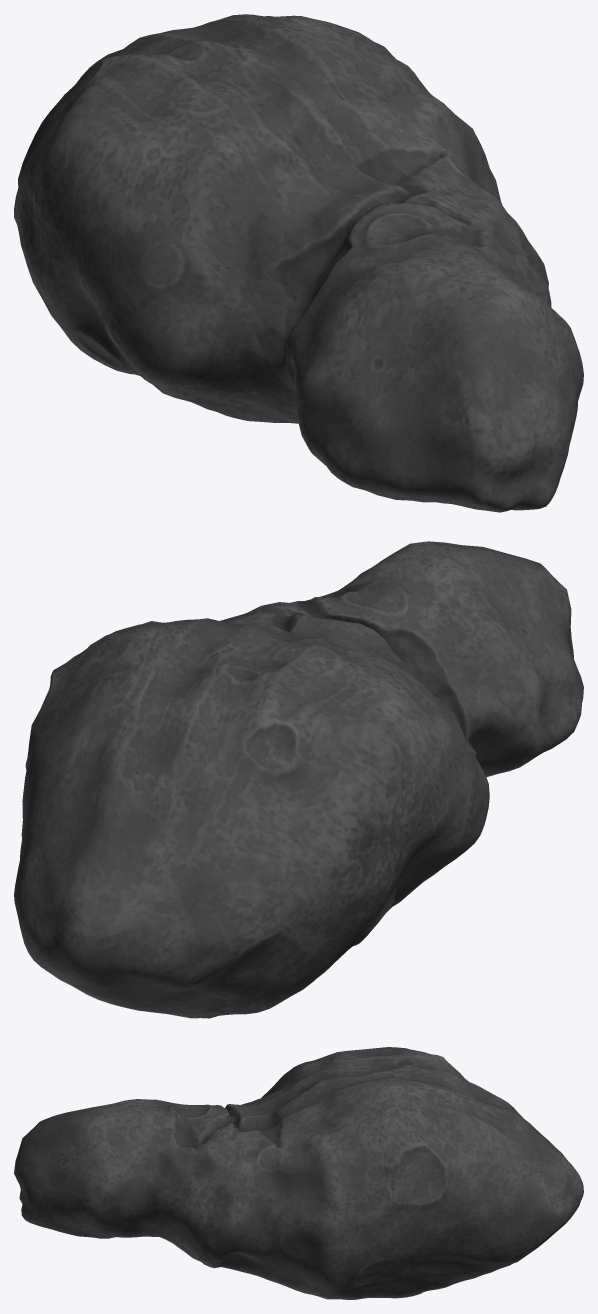
File: toutatis-transformed.glb
3 views of the same model, one above another, from view 1: azimuth 30°, elevation 25°; view 2: azimuth 150°, elevation 25°; view 3: azimuth 270°, elevation 25° (orthographic). The views are drawn at different scales.
Parts seen in each view (by area): view 1: Toutatis_LP; view 2: Toutatis_LP; view 3: Toutatis_LP.
Boxes of the visible parts, box(x1,y1,x2,y2) form: Toutatis_LP: box(14, 14, 583, 512); Toutatis_LP: box(14, 541, 583, 1018); Toutatis_LP: box(14, 1047, 583, 1299).
Size of the model in its own units: 2.27 by 1.9 by 4.57.
1 material, 1 textured.
